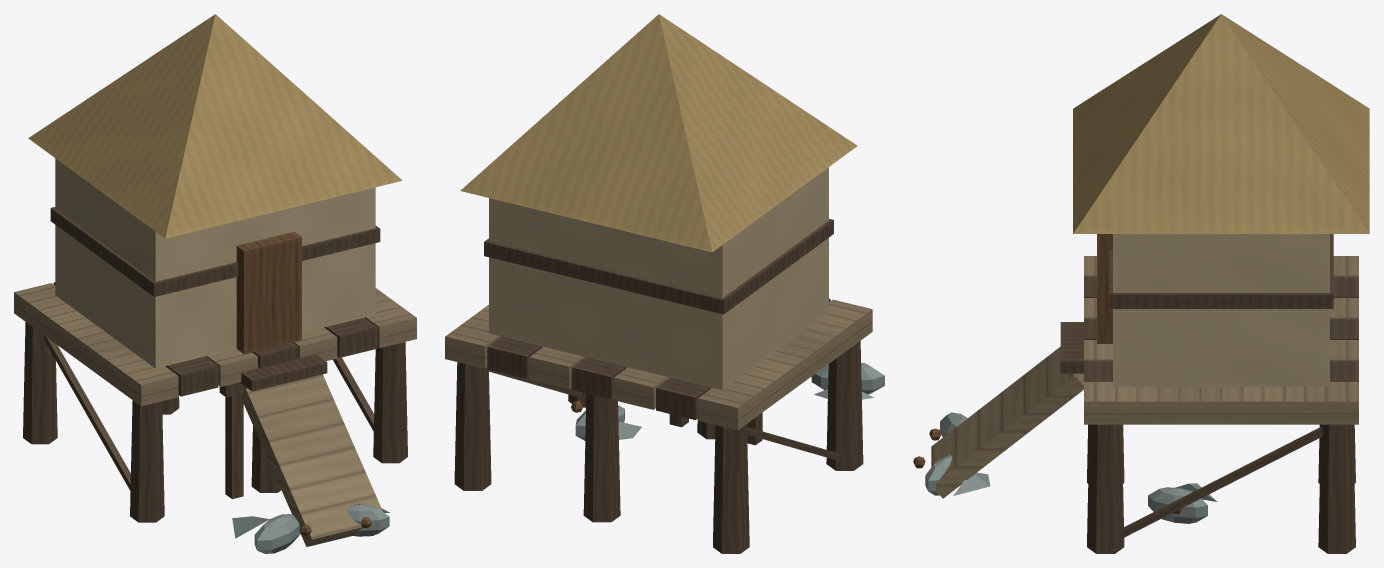
File: stilted-hut.glb
3 renders of one model, left to right at view 1: azimuth 30°, elevation 25°; view 2: azimuth 150°, elevation 25°; view 3: azimuth 270°, elevation 25°, orthographic. The views are drawn at different scales.
Visible parts, largest first — view 1: stilted-hut; view 2: stilted-hut; view 3: stilted-hut.
Part boxes in pixels (x1,y1,x2,y2): stilted-hut: [14, 14, 416, 553]; stilted-hut: [445, 14, 884, 553]; stilted-hut: [913, 14, 1369, 553].
Size of the model in its own units: 0.476 by 0.715 by 0.6311.
1 material, 1 textured.
